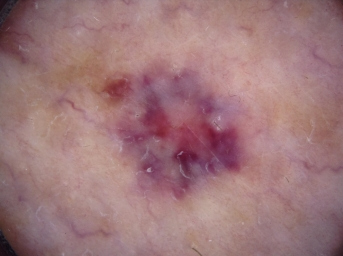melanoma: (102, 71, 241, 199)
